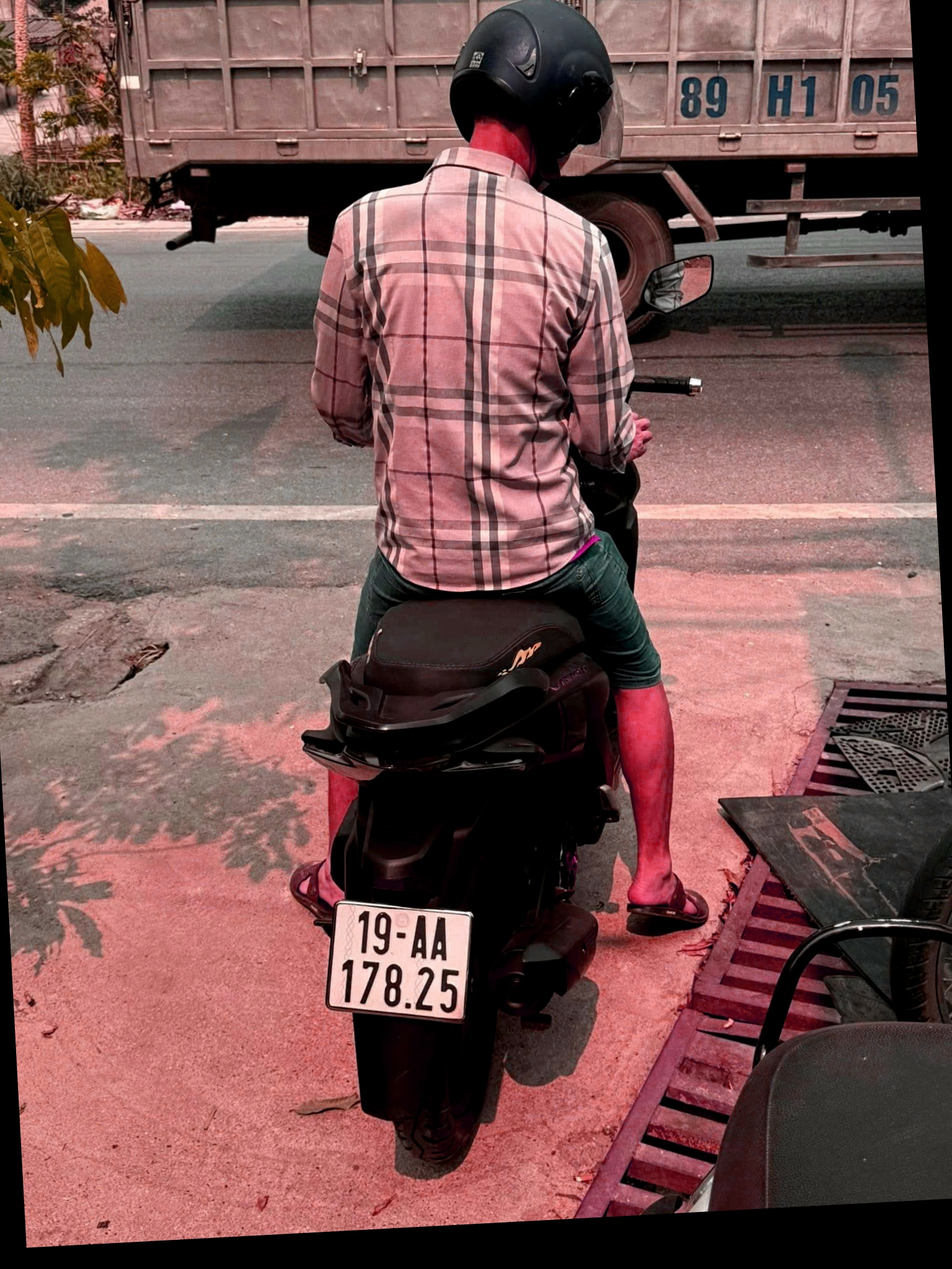Bien-so: (265, 874, 429, 1015)
